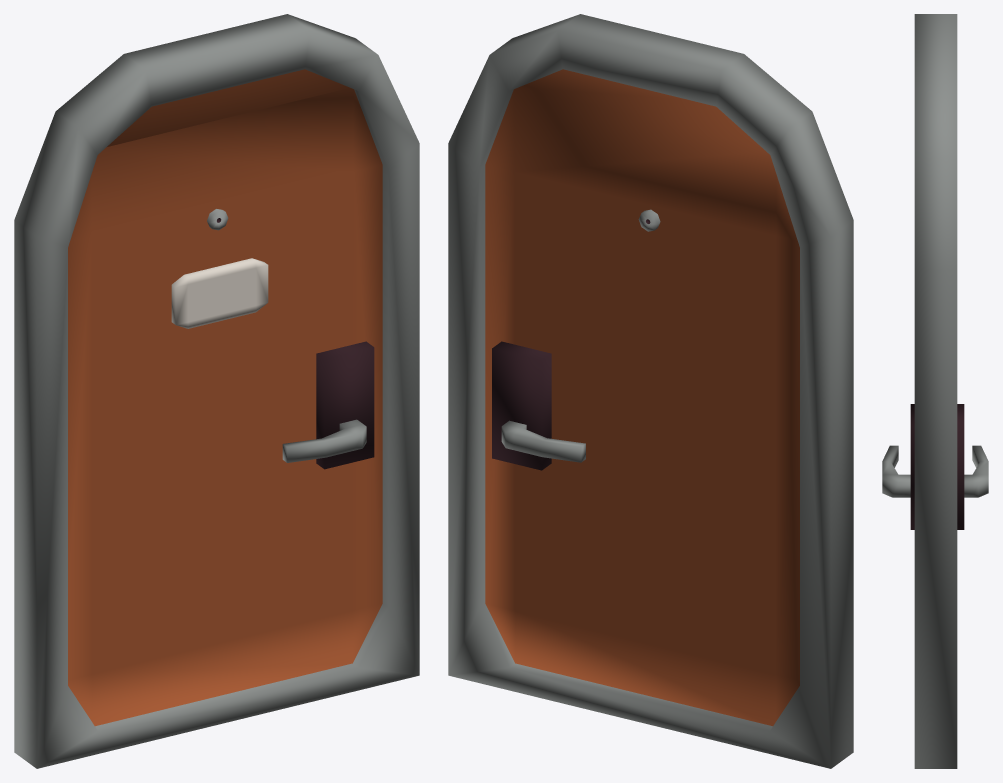
Rendered from Door.fbx.
3 views of the same model, side by side, from view 1: azimuth 30°, elevation 25°; view 2: azimuth 150°, elevation 25°; view 3: azimuth 270°, elevation 25° (orthographic). The views are drawn at different scales.
Parts seen in each view (by area): view 1: Door; view 2: Door; view 3: Door.
Boxes of the visible parts, x1=… form: Door: x1=14, y1=14, x2=419, y2=768; Door: x1=448, y1=14, x2=853, y2=768; Door: x1=882, y1=14, x2=988, y2=768.
Bounding box in the file's own units: 353 × 592 × 90.83.
